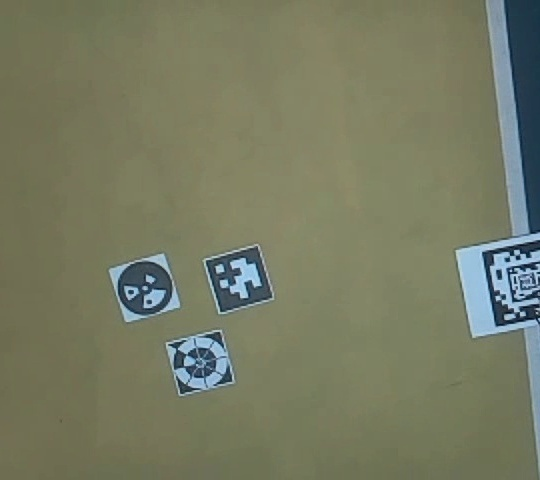landing-zone: (163, 329, 238, 398)
